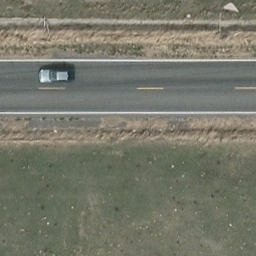car: (38, 68, 71, 84)
